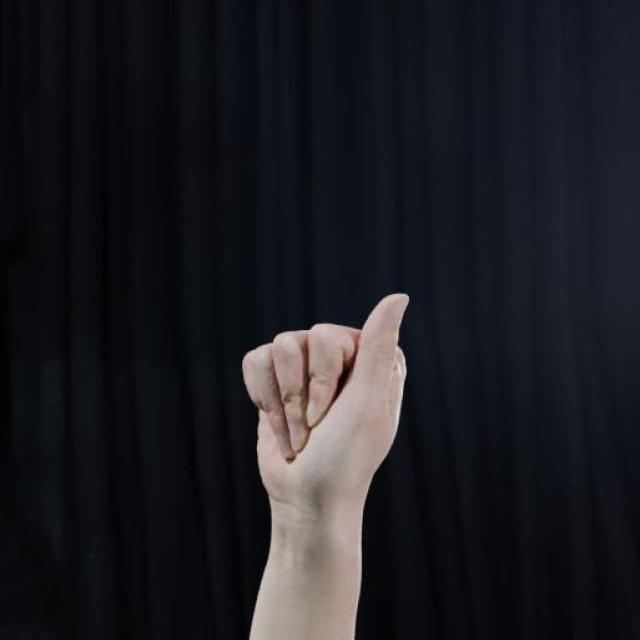A: (230, 287, 421, 504)
